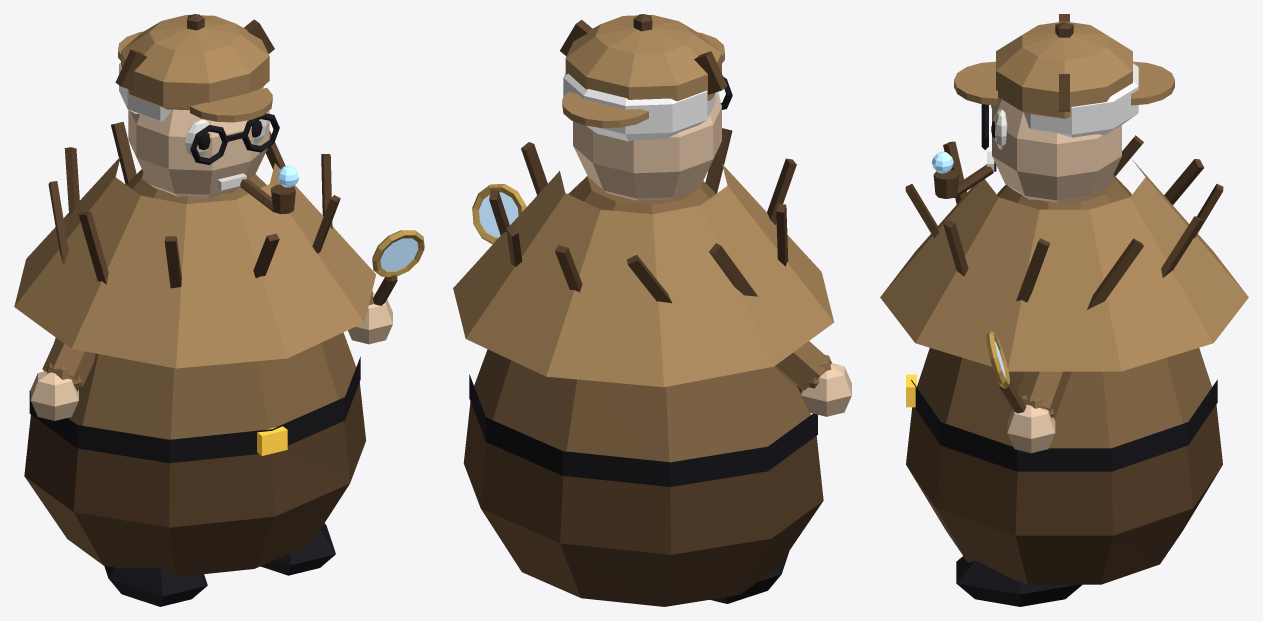
File: npc_socio_club.glb
3 renders of one model, left to right at view 1: azimuth 30°, elevation 25°; view 2: azimuth 150°, elevation 25°; view 3: azimuth 270°, elevation 25°, orthographic. The views are drawn at different scales.
Parts seen in each view (by area): view 1: body_detective_check, body_detective_dark, body_detective_coat, cap_detective_check, head_skin_crema, body_black, legs_black, arms_skin_crema, arms_detective_coat, props_detective_dark, glasses_black, cap_detective_dark (+5 smaller); view 2: body_detective_check, body_detective_dark, body_detective_coat, cap_detective_check, body_black, head_skin_crema, hair_hair, arms_skin_crema, arms_detective_coat, cap_detective_dark, props_brass, props_lens (+1 smaller); view 3: body_detective_check, body_detective_dark, body_detective_coat, cap_detective_check, head_skin_crema, body_black, legs_black, hair_hair, arms_skin_crema, arms_detective_coat, props_detective_dark, cap_detective_dark (+1 smaller).
Boxes of the visible parts, box(x1,y1,x2,y2) form: body_detective_check: box(14, 156, 376, 368); body_detective_dark: box(24, 121, 365, 576); body_detective_coat: box(54, 169, 356, 439); cap_detective_check: box(118, 15, 272, 122); head_skin_crema: box(128, 109, 269, 198); body_black: box(29, 356, 360, 463); legs_black: box(104, 523, 335, 606); arms_skin_crema: box(30, 293, 392, 420); arms_detective_coat: box(42, 290, 374, 391); props_detective_dark: box(239, 178, 397, 305); glasses_black: box(190, 113, 279, 164); cap_detective_dark: box(115, 14, 274, 90); body_detective_check: box(453, 164, 834, 387); body_detective_dark: box(463, 128, 823, 606); body_detective_coat: box(474, 176, 810, 462); cap_detective_check: box(562, 15, 724, 127); body_black: box(469, 374, 817, 486); head_skin_crema: box(573, 94, 721, 200); hair_hair: box(563, 73, 715, 141); arms_skin_crema: box(801, 363, 851, 416); arms_detective_coat: box(774, 341, 831, 392); cap_detective_dark: box(560, 14, 727, 94); props_brass: box(472, 183, 526, 244); props_lens: box(479, 192, 518, 237); body_detective_check: box(880, 158, 1248, 371); body_detective_dark: box(905, 135, 1223, 584); body_detective_coat: box(917, 174, 1211, 448); cap_detective_check: box(954, 21, 1174, 118); head_skin_crema: box(992, 97, 1121, 202); body_black: box(911, 379, 1217, 471); legs_black: box(956, 556, 1082, 606); hair_hair: box(1024, 63, 1138, 137); arms_skin_crema: box(1007, 405, 1055, 453); arms_detective_coat: box(1017, 371, 1071, 417); props_detective_dark: box(933, 164, 1026, 413); cap_detective_dark: box(1055, 14, 1073, 111).
Size of the model in its own units: 1.18 by 1.63 by 1.
